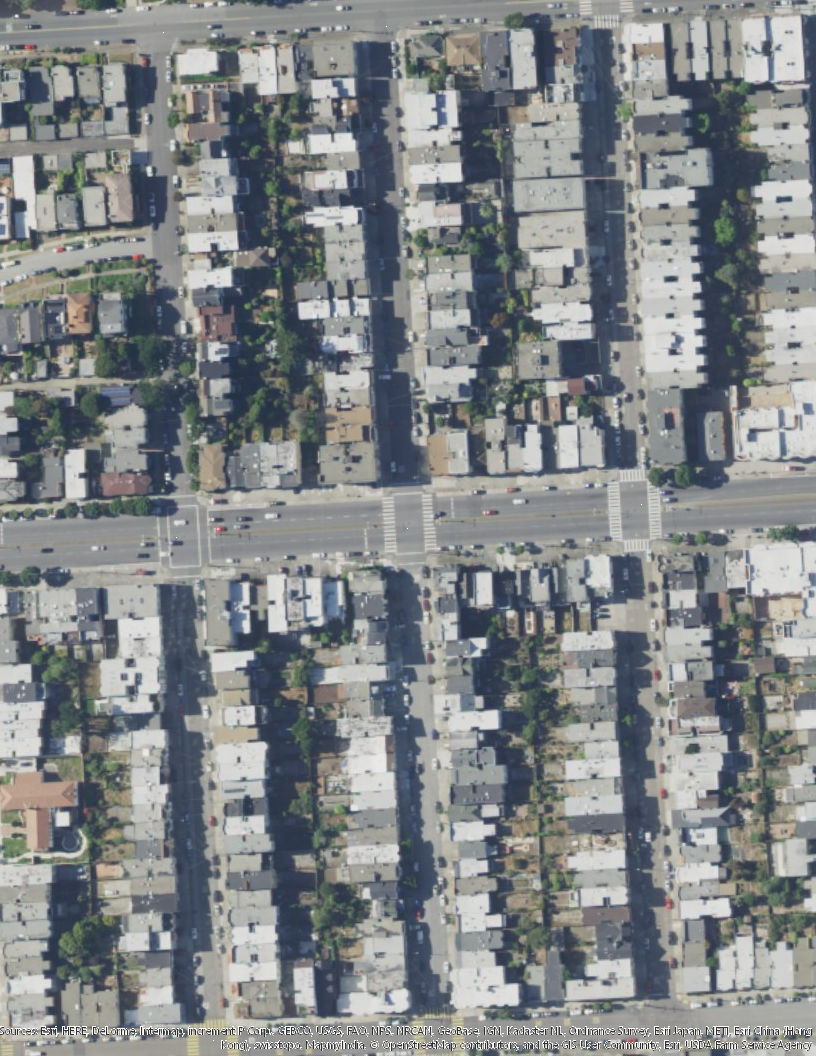zebracross: (420, 493, 440, 549), (379, 496, 398, 552), (607, 482, 624, 539), (646, 481, 662, 537), (193, 1019, 232, 1031), (593, 14, 622, 28), (620, 467, 649, 481), (453, 1018, 464, 1054), (412, 1022, 424, 1055), (424, 1008, 454, 1021), (623, 539, 650, 553), (188, 1033, 199, 1056), (227, 1034, 237, 1056), (579, 1, 593, 15), (619, 1, 635, 13)
